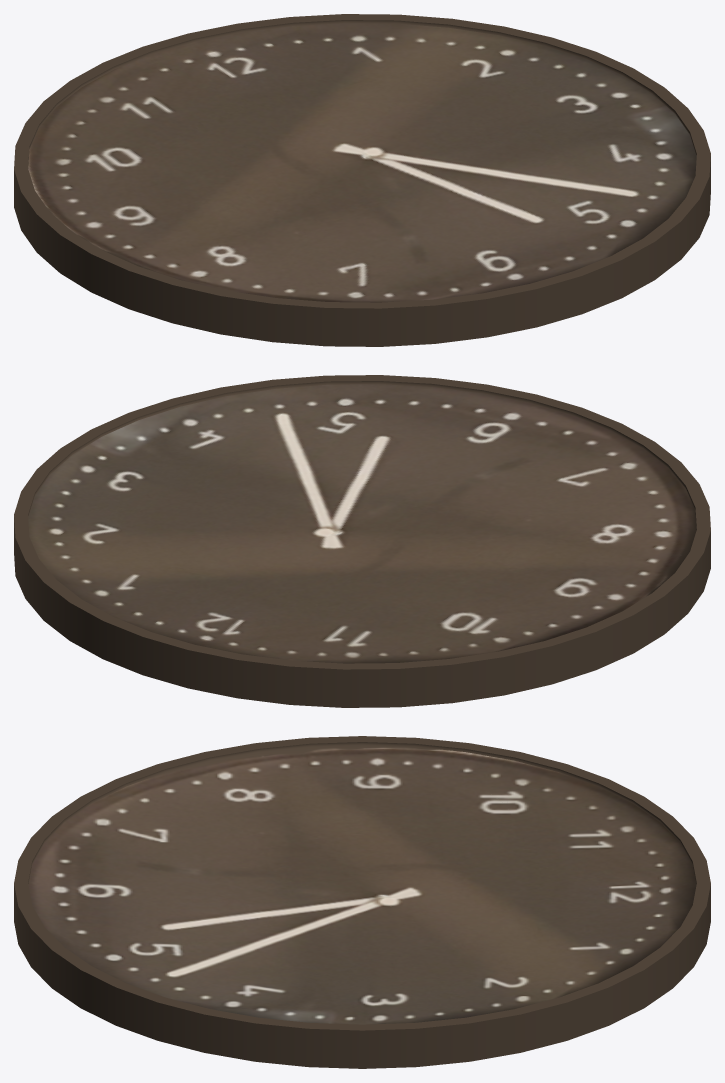
File: Clock.FBX
3 renders of one model, top to bottom at view 1: azimuth 30°, elevation 25°; view 2: azimuth 150°, elevation 25°; view 3: azimuth 270°, elevation 25°, orthographic.
Parts seen in each view (by area): view 1: Clock; view 2: Clock; view 3: Clock.
Part boxes in pixels (x1,y1,x2,y2): Clock: (14,14,710,346); Clock: (14,375,710,707); Clock: (14,736,710,1068).
Size of the model in its own units: 49.39 by 3 by 49.39.
